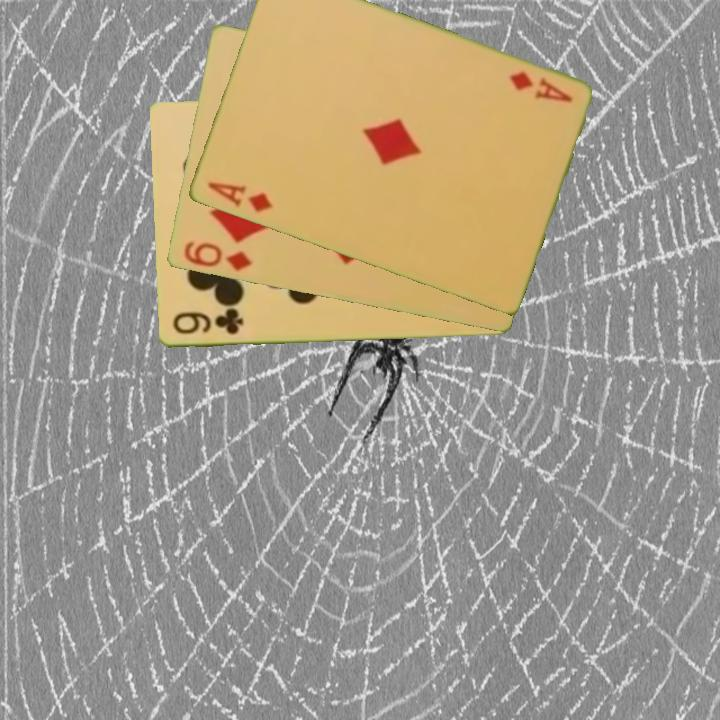6d: (180, 238, 255, 274)
9c: (169, 308, 246, 338)
Ad: (203, 178, 275, 216), (505, 68, 575, 106)
